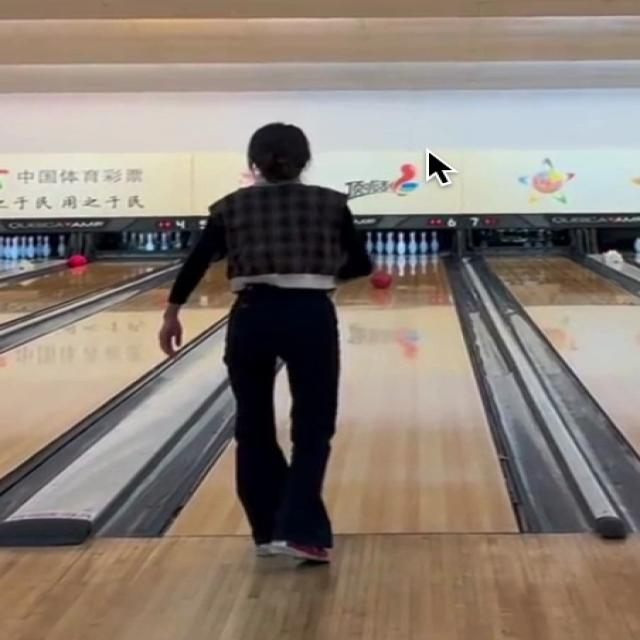alley: (324, 259, 515, 534), (168, 444, 248, 535)
balls: (370, 273, 392, 290)
bottle: (367, 231, 439, 256)
